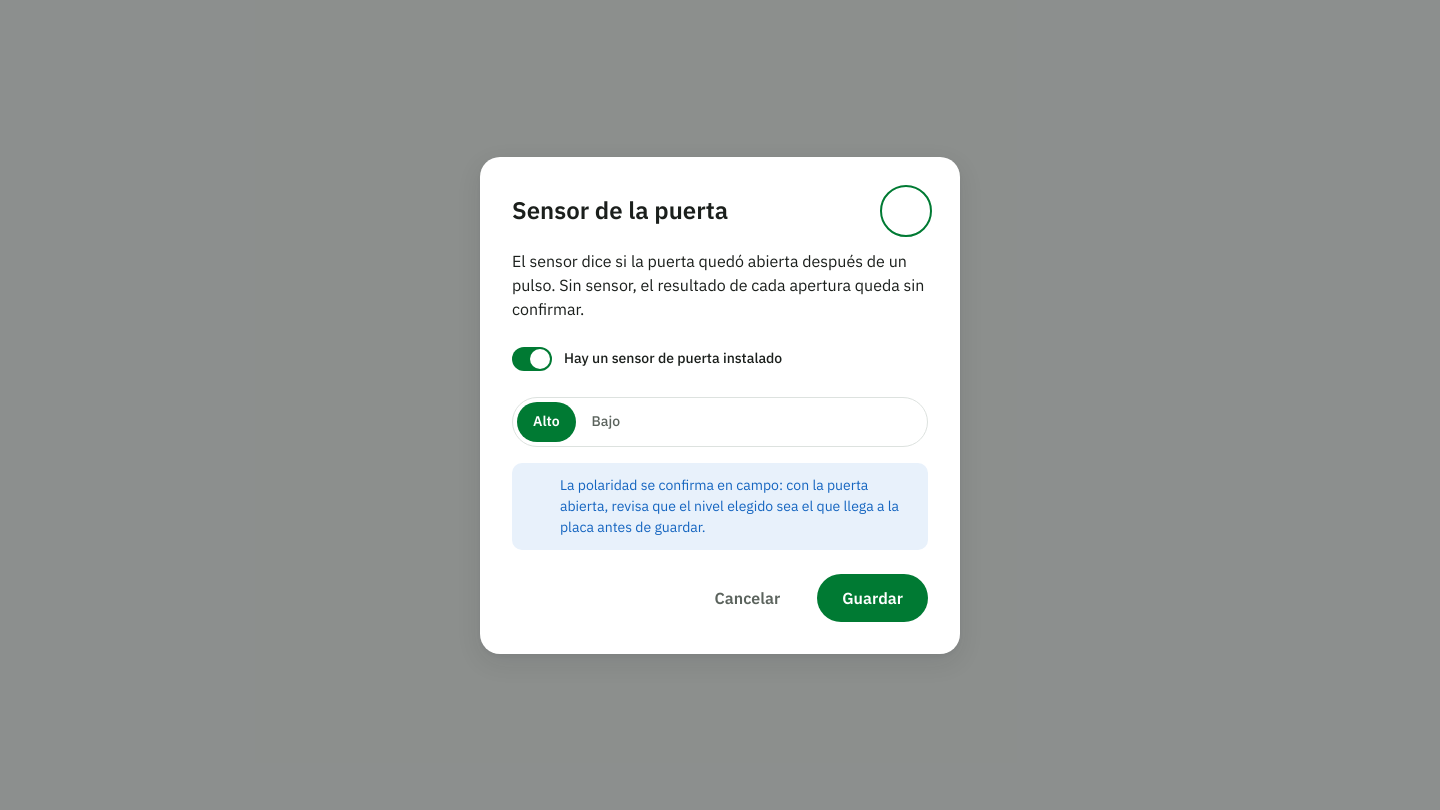
Test: sensor de la puerta de una placa › un error de la API se traduce y el diálogo queda abierto
The width and height of the screenshot is (1440, 810).
Click the button "Guardar".
click(873, 598)  # box [817,574,928,622]
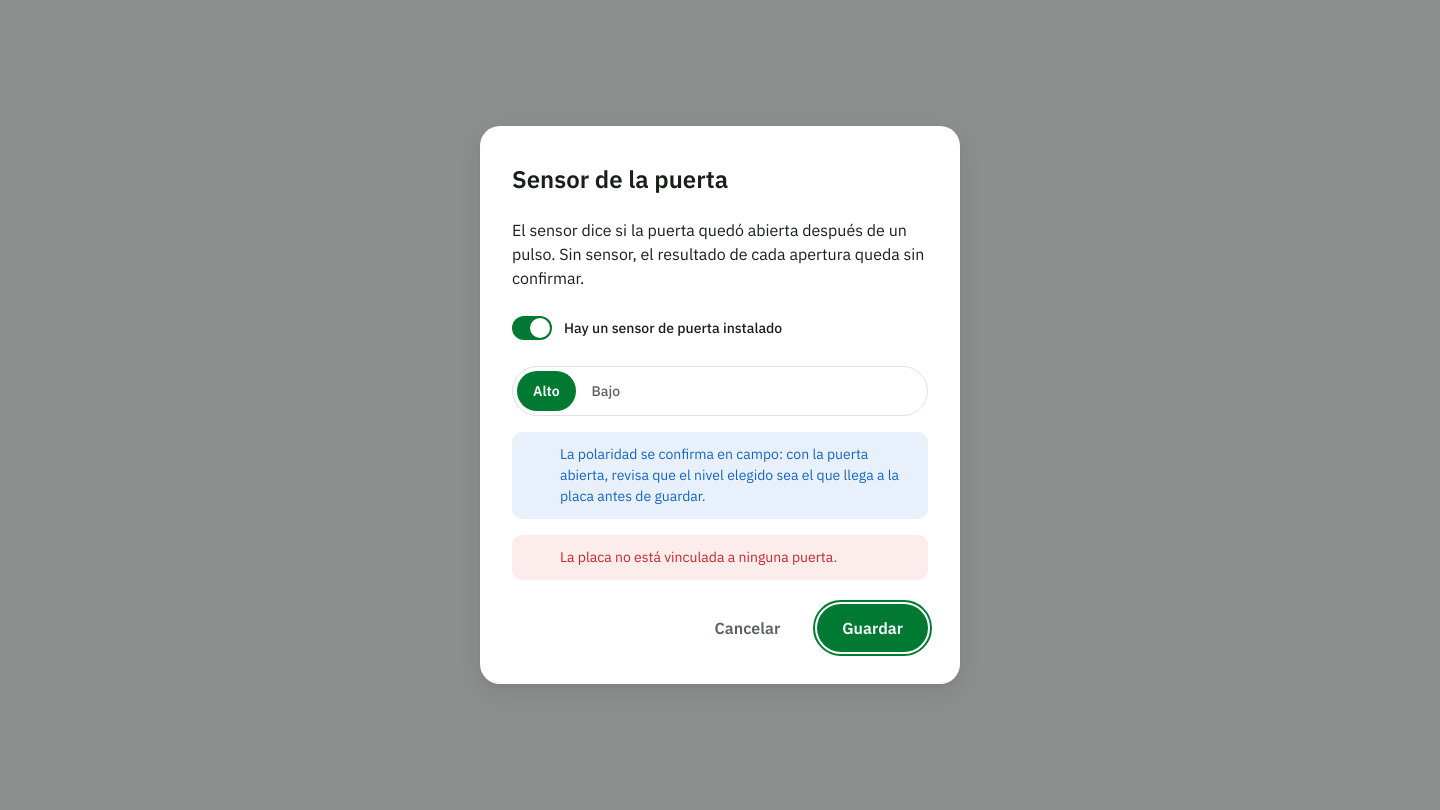
Check: the text "La placa no está vinculada a ninguna puerta." is shown, box [560,547,837,568]
